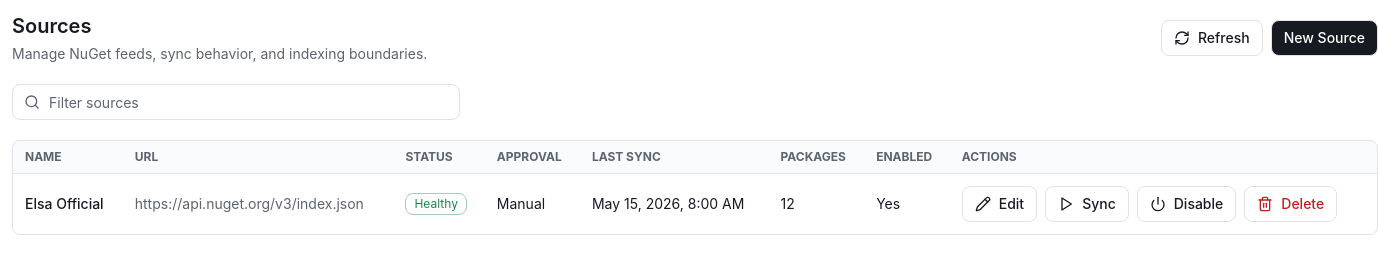
Test: SourcesPage › filters populated source rows
Expected: the link "Elsa Official" is shown, x1=25 y1=195 x2=104 y2=212
Type "missing" into the field with placeholder "Filter sources" at (236, 102), box x1=12 y1=84 x2=460 y2=120
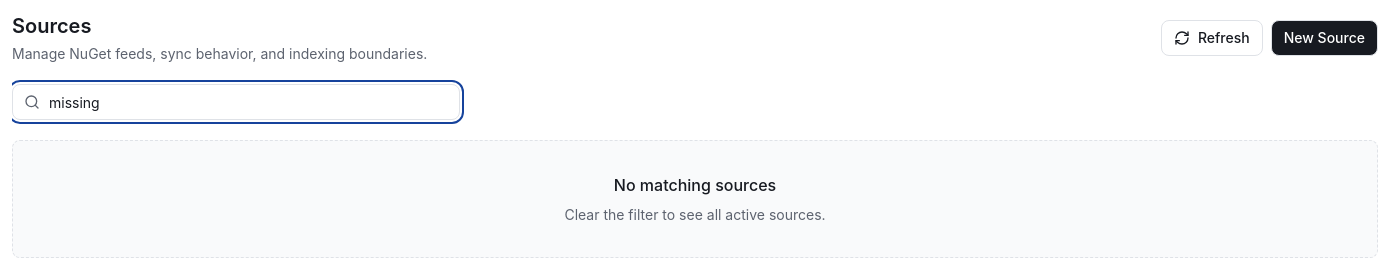
Expected: the heading "No matching sources" is shown, x1=614 y1=175 x2=776 y2=195
